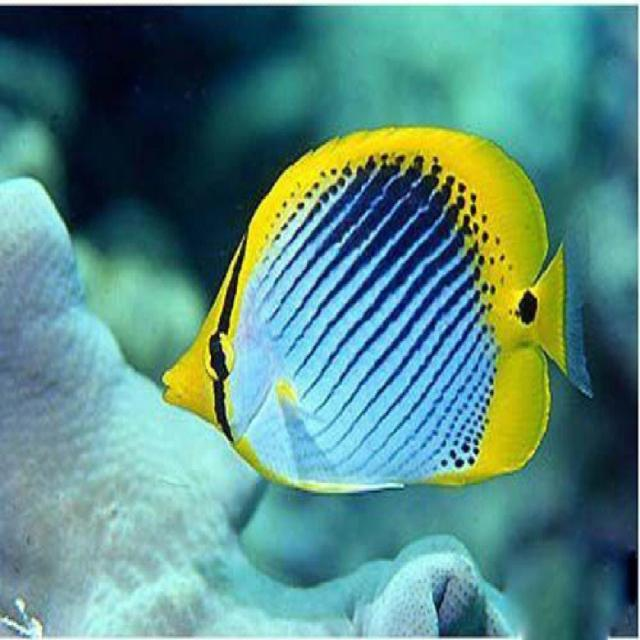ButterflyFish: (162, 129, 589, 498)
